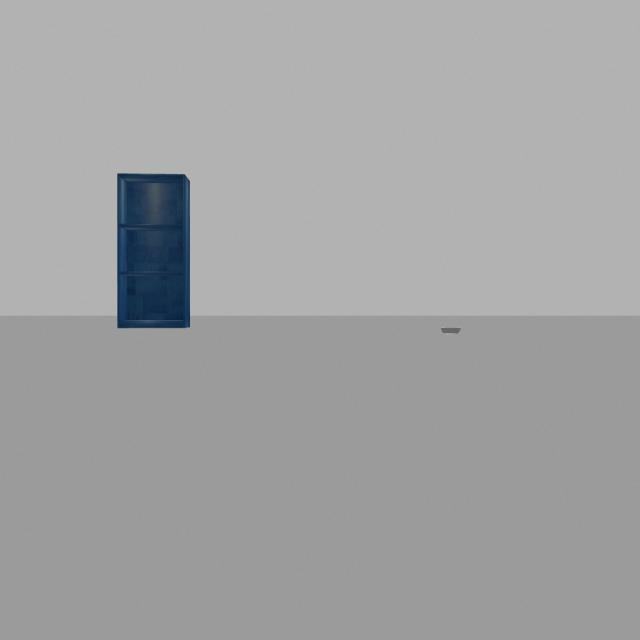bowl: (434, 318, 466, 367)
shelf: (91, 148, 218, 354)
